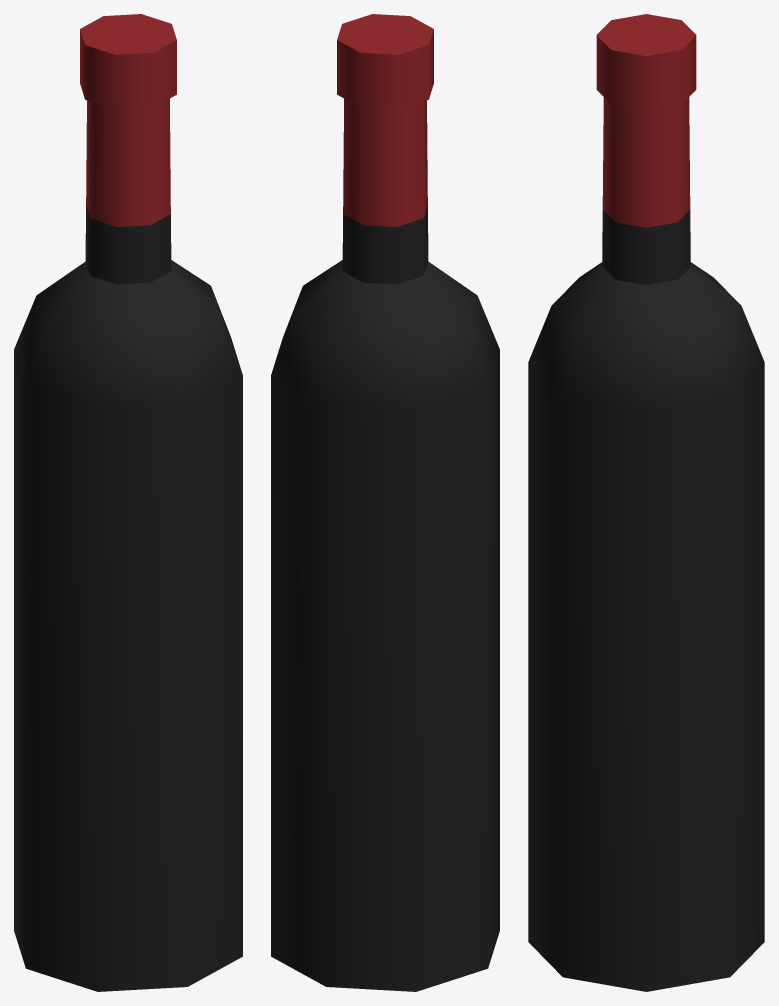
The model's file is prop_058.fbx.
3 renders of one model, left to right at view 1: azimuth 30°, elevation 25°; view 2: azimuth 150°, elevation 25°; view 3: azimuth 270°, elevation 25°, orthographic.
Parts seen in each view (by area): view 1: prop_058; view 2: prop_058; view 3: prop_058.
Boxes of the visible parts, box(x1,y1,x2,y2) form: prop_058: box(14, 14, 242, 991); prop_058: box(271, 14, 499, 991); prop_058: box(528, 14, 764, 991).
Bounding box in the file's own units: 10.6 × 10.6 × 44.85.
